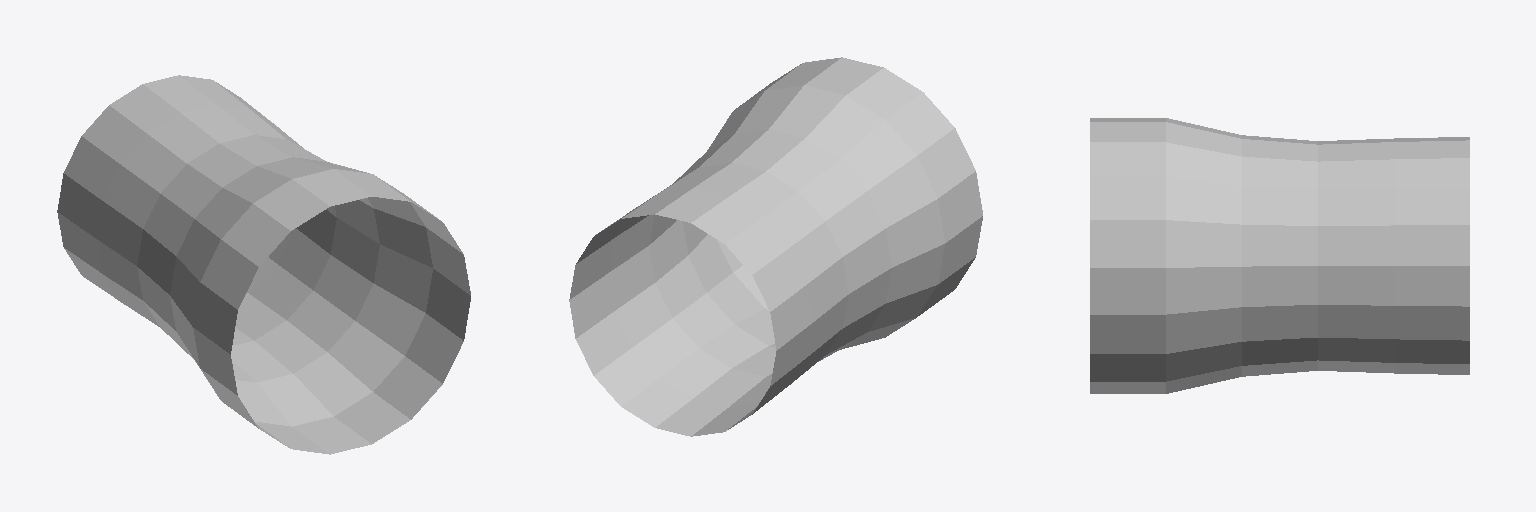
File: basketBallNet.obj
The picture shows the model from 3 angles: view 1: azimuth 30°, elevation 25°; view 2: azimuth 150°, elevation 25°; view 3: azimuth 270°, elevation 25°; orthographic projection.
Visible parts, largest first — view 1: net; view 2: net; view 3: net.
Boxes of the visible parts, x1=… form: net: x1=57, y1=75, x2=470, y2=454; net: x1=569, y1=57, x2=982, y2=436; net: x1=1090, y1=118, x2=1469, y2=393.
Size of the model in its own units: 18 by 17.73 by 24.66.